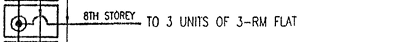Single Phase Tap-Off Unit: (0, 0, 61, 40)
